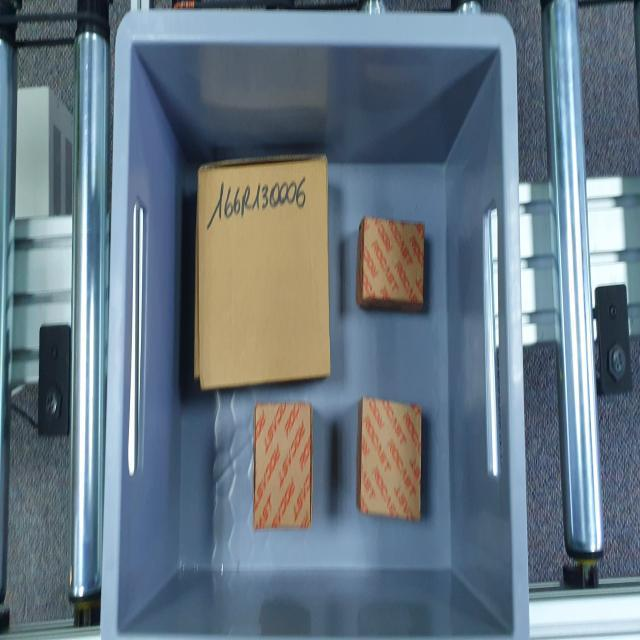box: (195, 154, 332, 386), (360, 392, 422, 524), (254, 404, 314, 534), (362, 211, 426, 311)
